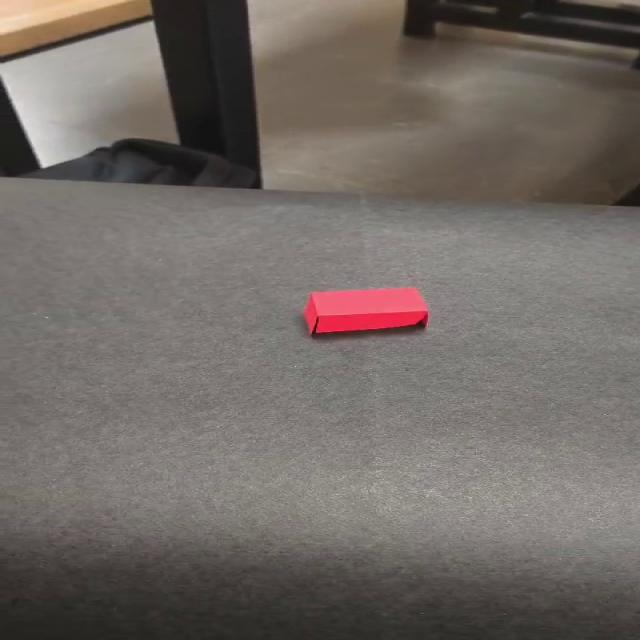red block: (302, 286, 429, 335)
